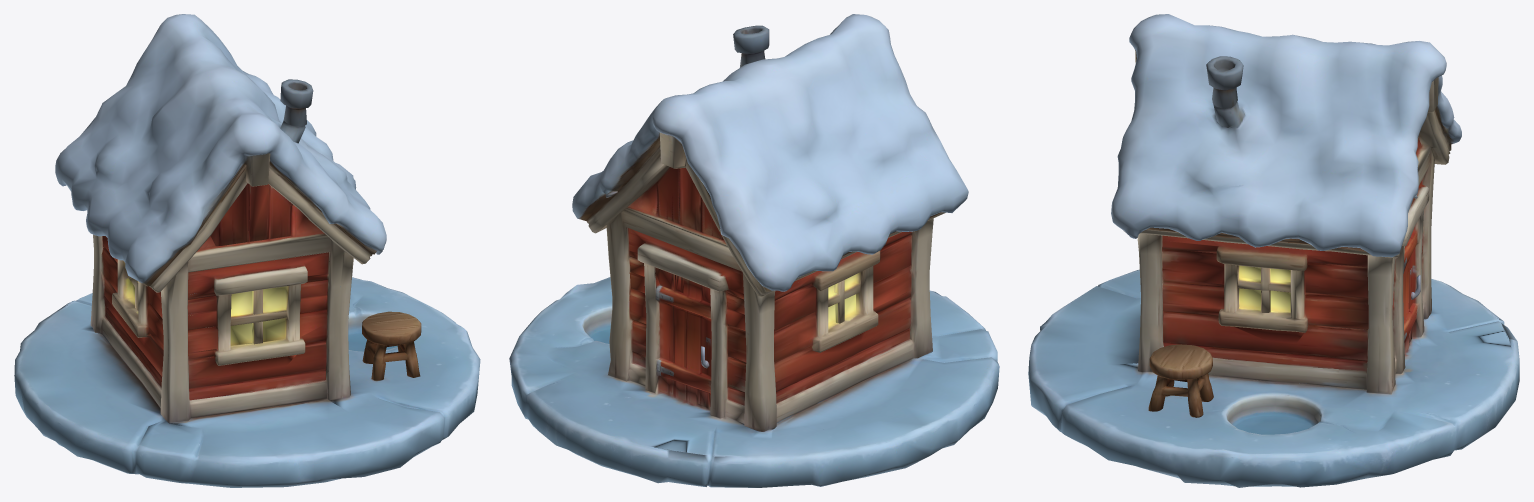
The model's file is model_url.glb.
3 renders of one model, left to right at view 1: azimuth 30°, elevation 25°; view 2: azimuth 150°, elevation 25°; view 3: azimuth 270°, elevation 25°, orthographic. The views are drawn at different scales.
Parts seen in each view (by area): view 1: tripo_node_92210654-db42-4b2b-84dd-9da18f35ee5d; view 2: tripo_node_92210654-db42-4b2b-84dd-9da18f35ee5d; view 3: tripo_node_92210654-db42-4b2b-84dd-9da18f35ee5d.
Boxes of the visible parts, x1,y1,x2,y2 form: tripo_node_92210654-db42-4b2b-84dd-9da18f35ee5d: [14, 14, 480, 487]; tripo_node_92210654-db42-4b2b-84dd-9da18f35ee5d: [509, 14, 999, 487]; tripo_node_92210654-db42-4b2b-84dd-9da18f35ee5d: [1028, 14, 1519, 487].
Bounding box in the file's own units: 0.998 × 0.775 × 1.
Materials: 1 (1 with a texture image).
